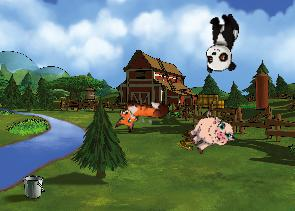fox: (114, 96, 169, 137)
panda: (204, 12, 239, 73)
pig: (182, 106, 238, 161)
